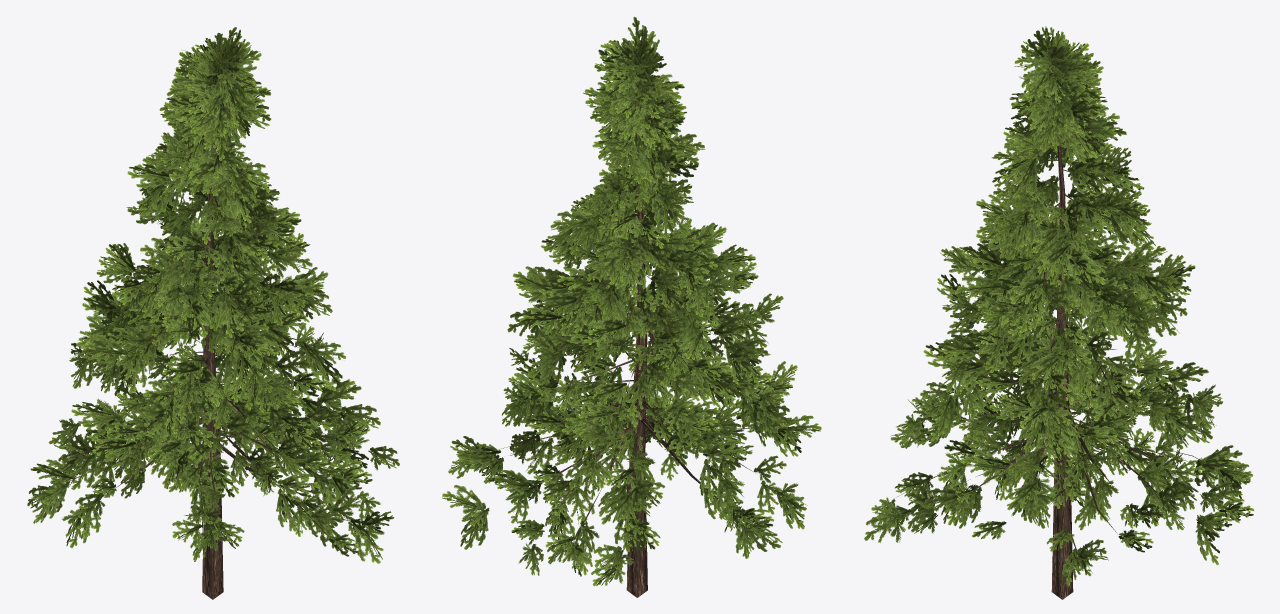
File: ez_pine_a.glb
3 views of the same model, side by side, from view 1: azimuth 30°, elevation 25°; view 2: azimuth 150°, elevation 25°; view 3: azimuth 270°, elevation 25° (orthographic).
Visible parts, largest first — view 1: Tree; view 2: Tree; view 3: Tree.
Part boxes in pixels (bbox=[...]): Tree: bbox=[27, 27, 399, 599]; Tree: bbox=[442, 16, 821, 597]; Tree: bbox=[864, 26, 1254, 599].
Size of the model in its own units: 34.68 by 54.13 by 34.91.
2 materials, 2 textured.
